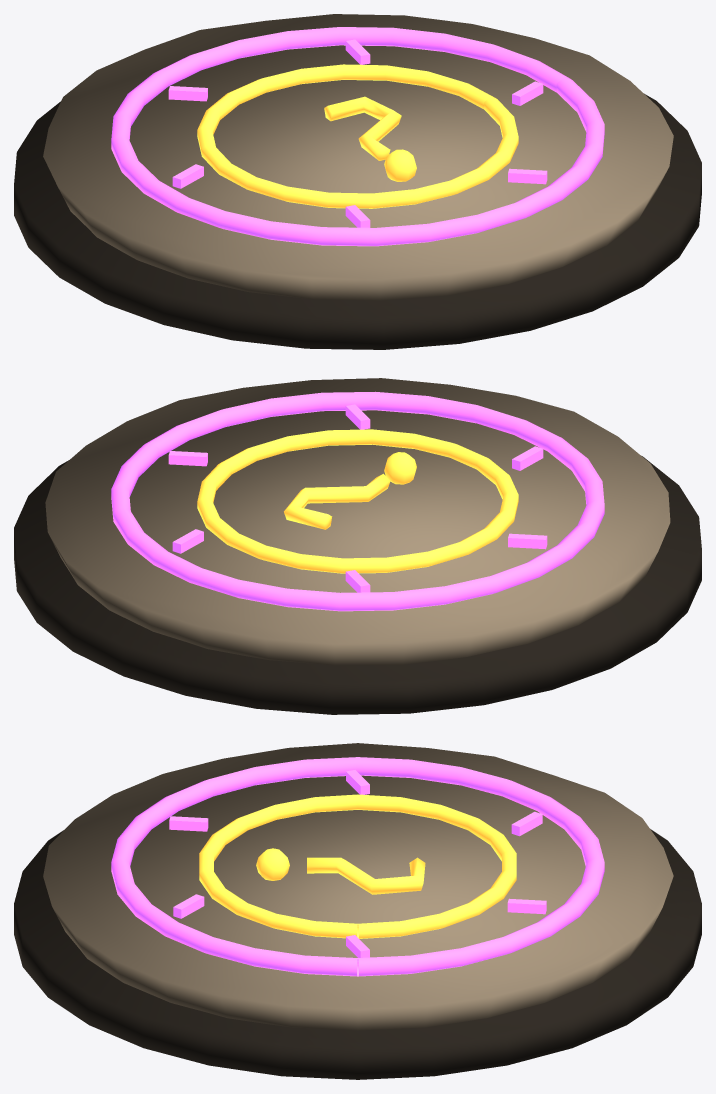
Rendered from kit_trap7.glb.
3 views of the same model, one above another, from view 1: azimuth 30°, elevation 25°; view 2: azimuth 150°, elevation 25°; view 3: azimuth 270°, elevation 25° (orthographic).
Parts seen in each view (by area): view 1: kit_trap7; view 2: kit_trap7; view 3: kit_trap7.
Part boxes in pixels (x1,y1,x2,y2): kit_trap7: [14, 14, 701, 349]; kit_trap7: [14, 378, 701, 714]; kit_trap7: [14, 743, 701, 1079].
Bounding box in the file's own units: 0.81 × 0.11 × 0.81.
